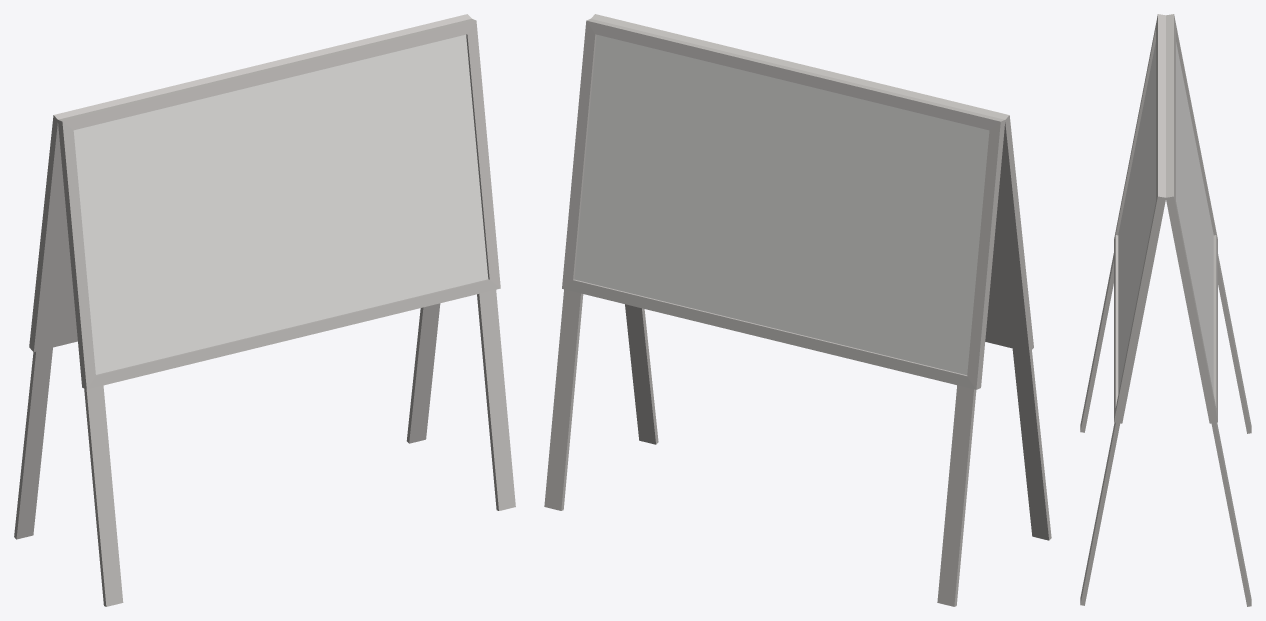
The model's file is SM_whiteboard.fbx.
3 renders of one model, left to right at view 1: azimuth 30°, elevation 25°; view 2: azimuth 150°, elevation 25°; view 3: azimuth 270°, elevation 25°, orthographic. The views are drawn at different scales.
Visible parts, largest first — view 1: Box248; view 2: Box248; view 3: Box248.
Part boxes in pixels (bbox=[...]): Box248: bbox=[14, 14, 515, 606]; Box248: bbox=[544, 14, 1051, 606]; Box248: bbox=[1080, 14, 1251, 606].
Bounding box in the file's own units: 75.88 × 79.68 × 30.07.
